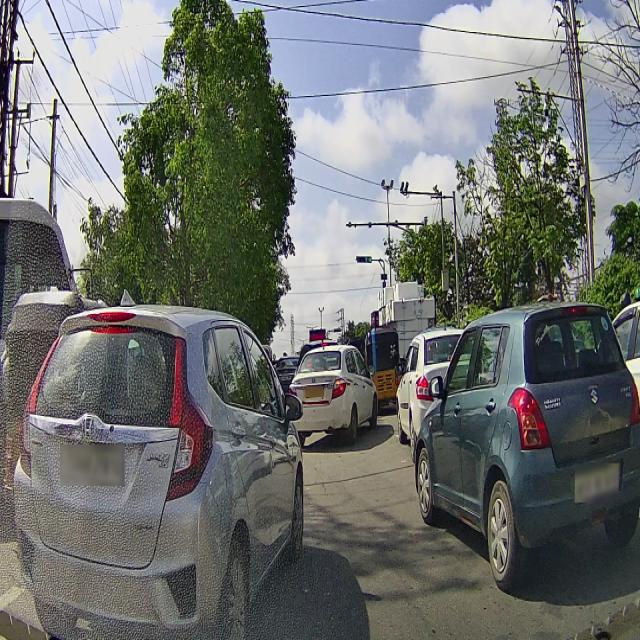car ahead at: (17, 294, 308, 640), (411, 305, 640, 575)
